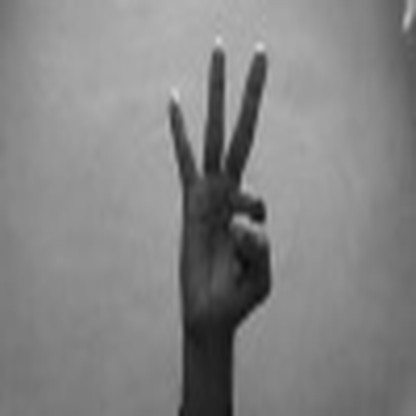f: (152, 30, 279, 334)
